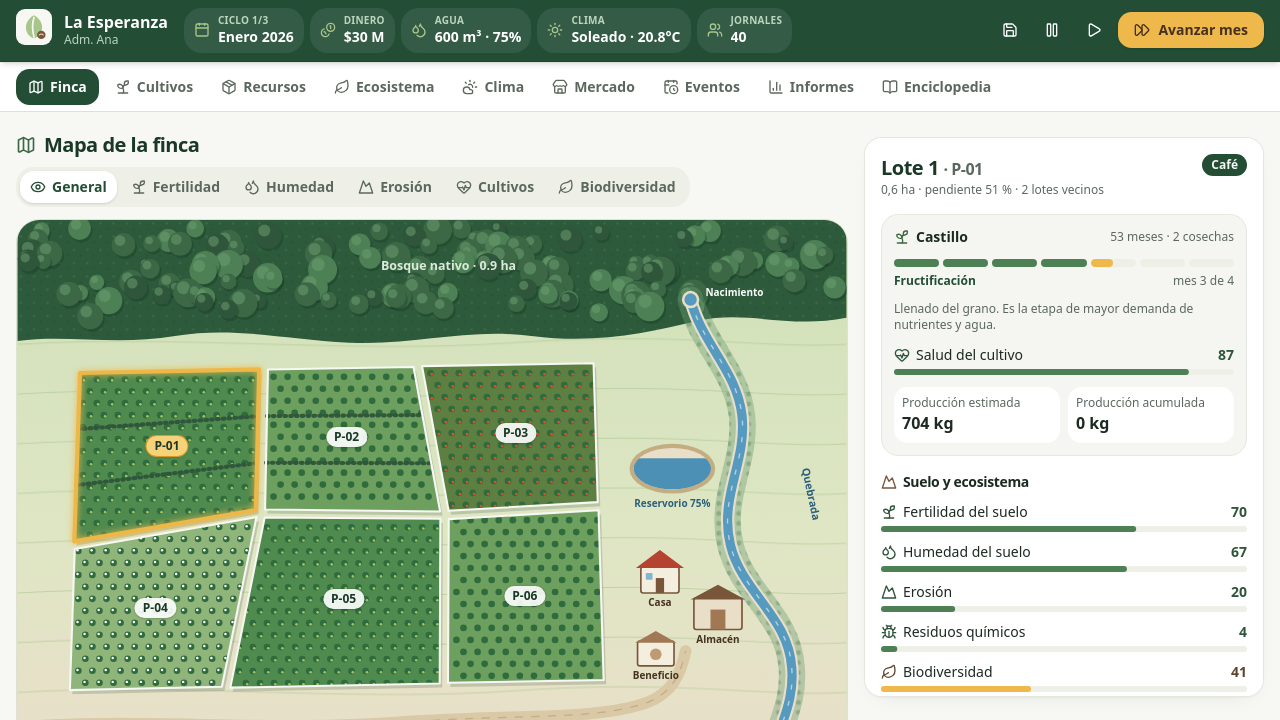
Test: Pantalla principal del juego › el menú de pausa ofrece guardar y salir
The width and height of the screenshot is (1280, 720).
expect the button with test id "advance-month" is shown: met, box [1118,12,1264,48]
Click the button named "Pausar partida": (1052, 30) [1034,12,1070,48]
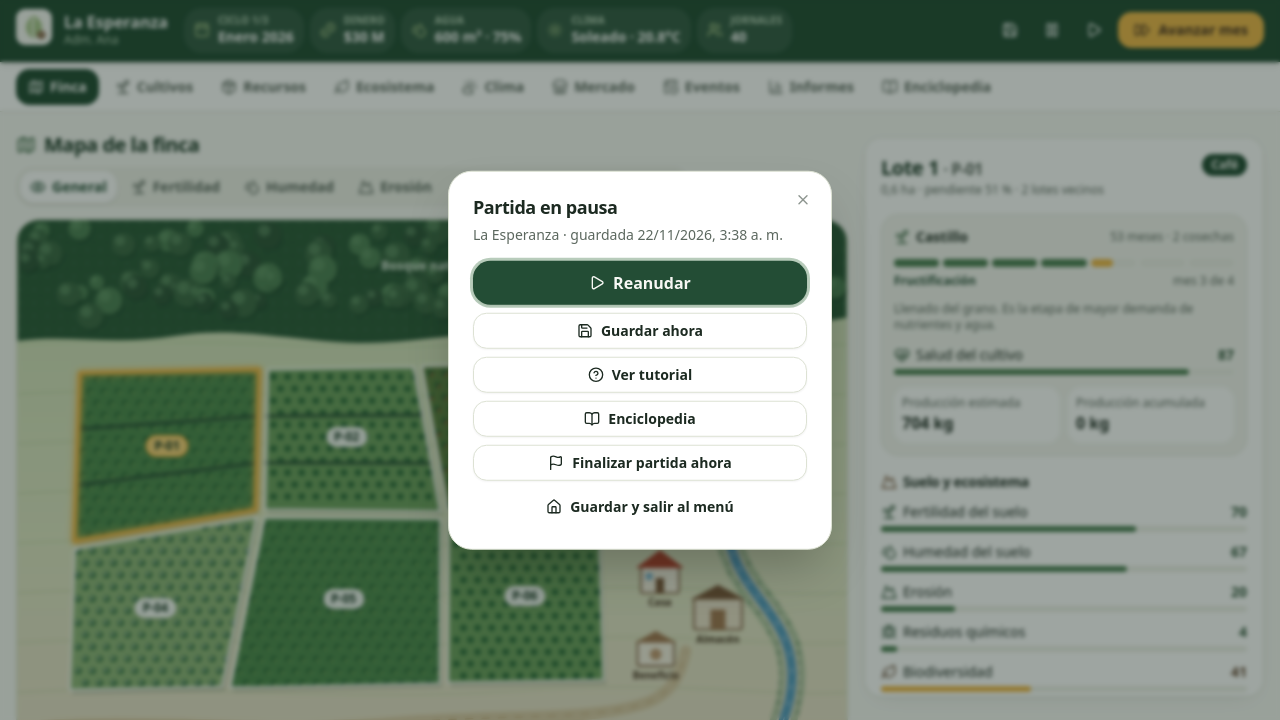
expect the button "Reanudar" is shown: met, box [473,260,807,304]
expect the button "Guardar ahora" is shown: met, box [473,312,807,348]
